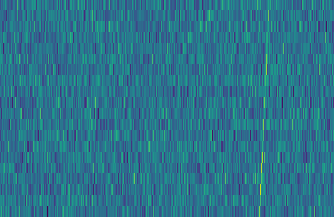signal: (256, 0, 275, 217)
